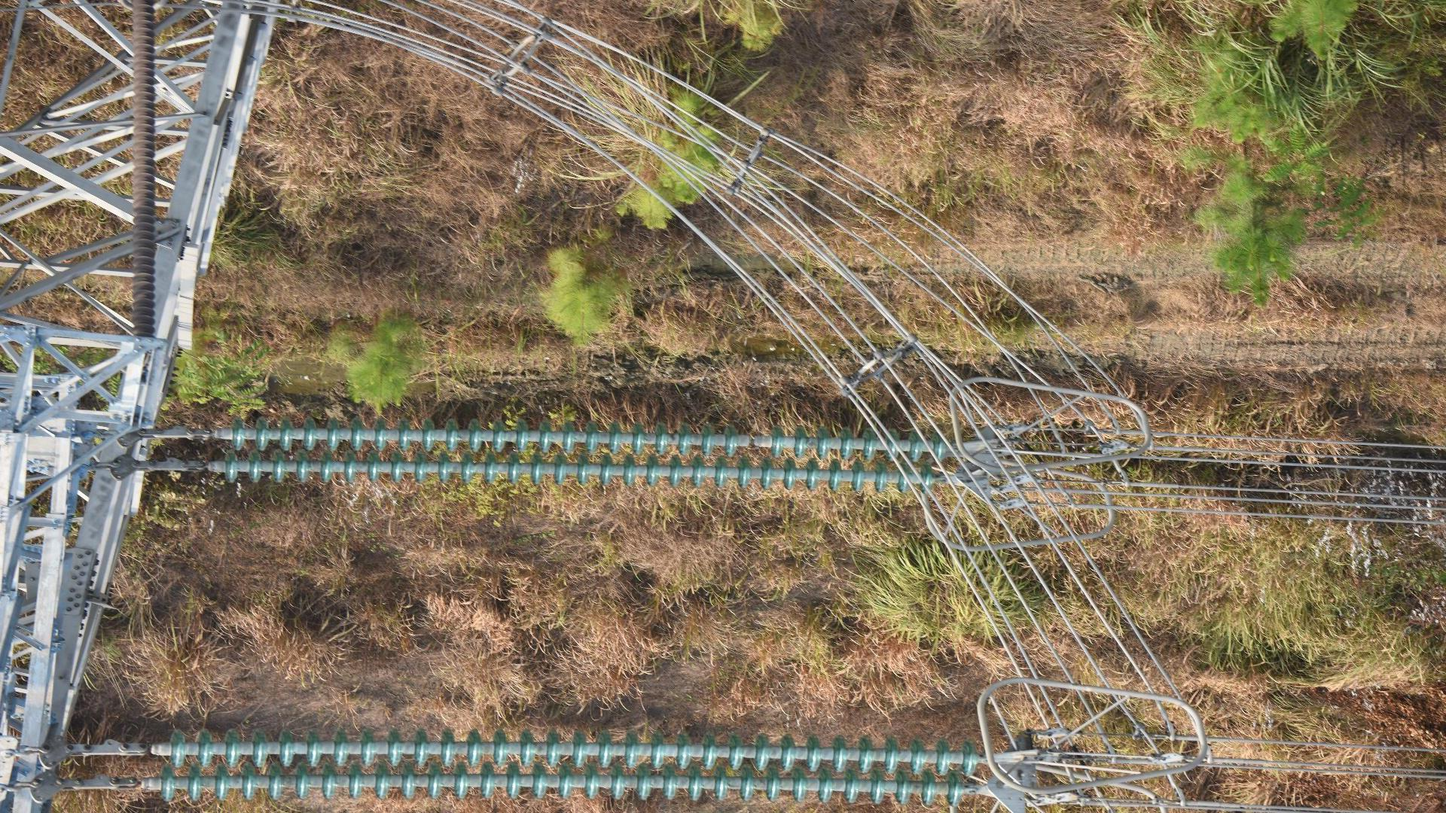insulator: (154, 726, 982, 813), (219, 410, 947, 499), (124, 1, 166, 340)
insulator_stringdrop: (717, 420, 789, 465)
